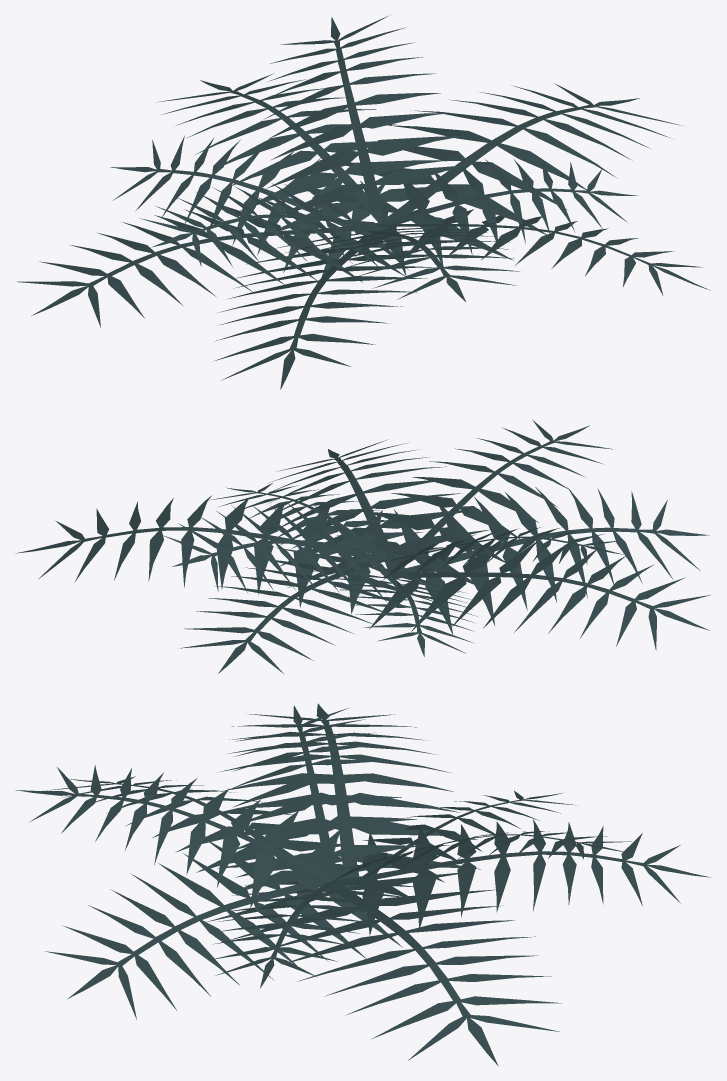
The model's file is plante1_v2.fbx.
3 renders of one model, top to bottom at view 1: azimuth 30°, elevation 25°; view 2: azimuth 150°, elevation 25°; view 3: azimuth 270°, elevation 25°, orthographic. The views are drawn at different scales.
Visible parts, largest first — view 1: Plane.010; view 2: Plane.010; view 3: Plane.010.
Boxes of the visible parts, x1,y1,x2,y2 form: Plane.010: (17, 15, 710, 389); Plane.010: (16, 419, 710, 674); Plane.010: (15, 703, 710, 1066).
Size of the model in its own units: 1160 by 198 by 991.
